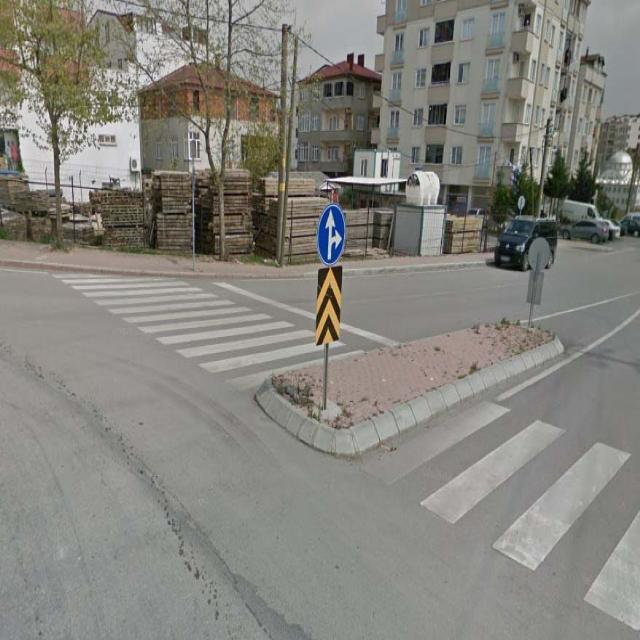ilerisag: (318, 206, 344, 265)
